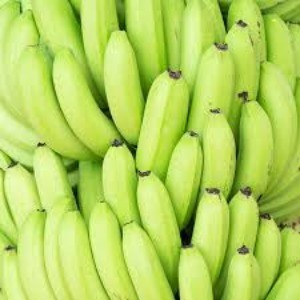banana_brain food: (54, 96, 219, 258)
